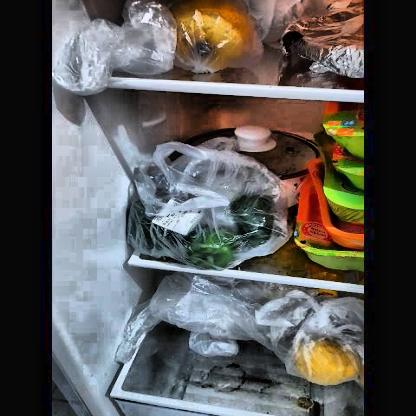lemon: (166, 3, 256, 67), (294, 336, 363, 385)
